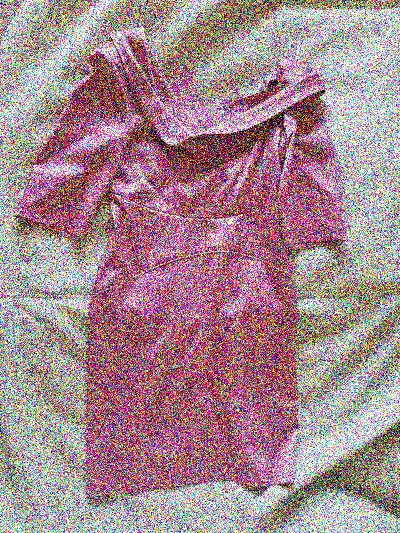Dress: (11, 37, 367, 505)
